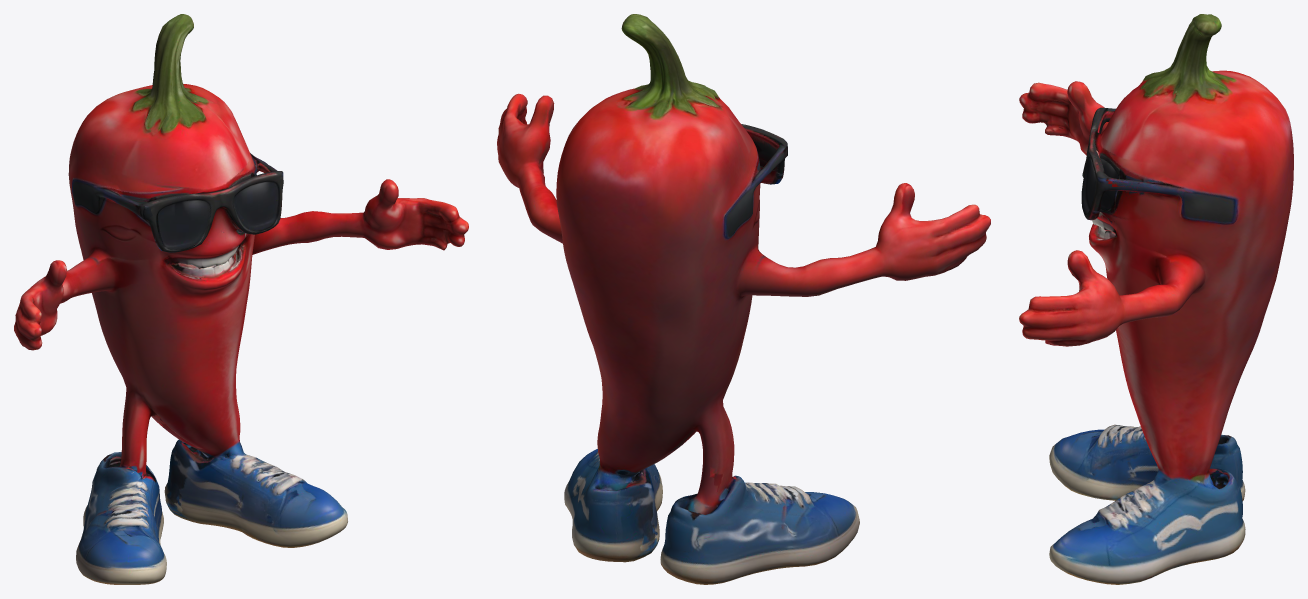
The model's file is chili.glb.
3 renders of one model, left to right at view 1: azimuth 30°, elevation 25°; view 2: azimuth 150°, elevation 25°; view 3: azimuth 270°, elevation 25°, orthographic. The views are drawn at different scales.
Visible parts, largest first — view 1: Mesh0; view 2: Mesh0; view 3: Mesh0.
Part boxes in pixels (x1,y1,x2,y2): Mesh0: (14, 14, 468, 584); Mesh0: (497, 14, 990, 584); Mesh0: (1019, 14, 1293, 584).
Bounding box in the file's own units: 1.77 × 1.91 × 0.9145.
Materials: 1 (1 with a texture image).
